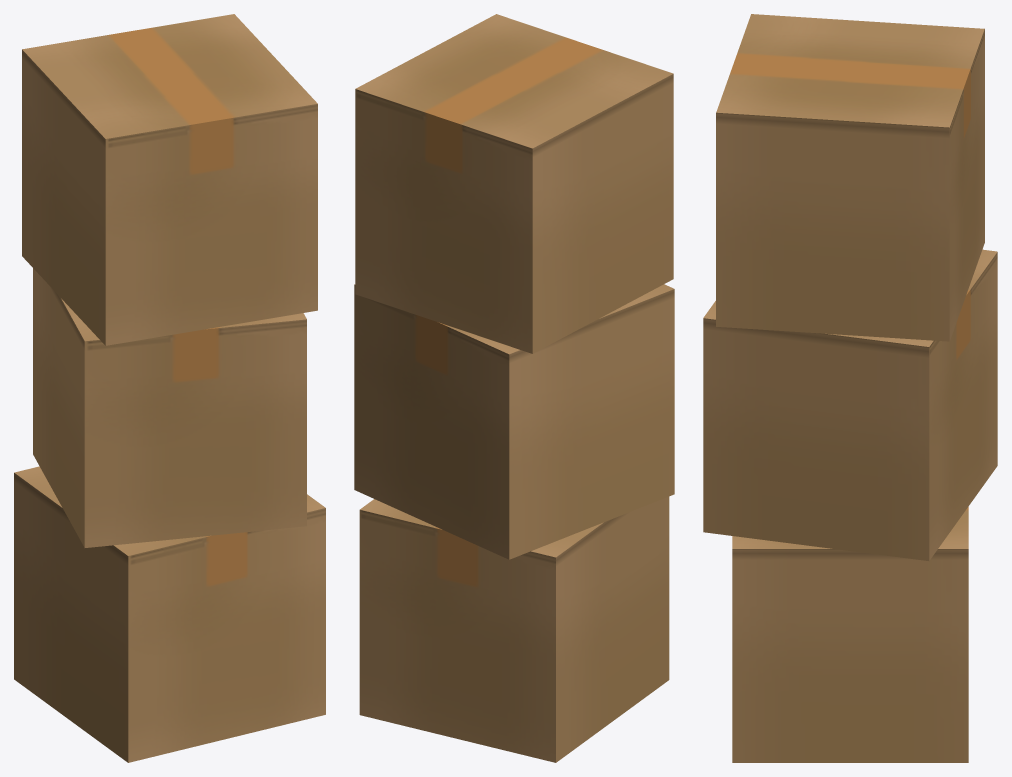
File: cardboardx3.obj
The picture shows the model from 3 angles, left to right: view 1: azimuth 30°, elevation 25°; view 2: azimuth 150°, elevation 25°; view 3: azimuth 270°, elevation 25°; orthographic projection. The views are drawn at different scales.
Parts seen in each view (by area): view 1: pCube3, pCube2, pCube1; view 2: pCube3, pCube1, pCube2; view 3: pCube3, pCube1, pCube2.
Boxes of the visible parts, x1,y1,x2,y2 form: pCube3: (22, 14, 317, 345); pCube2: (14, 466, 325, 762); pCube1: (33, 268, 306, 547); pCube3: (355, 14, 673, 353); pCube1: (354, 284, 674, 559); pCube2: (359, 496, 669, 762); pCube3: (716, 14, 984, 341); pCube1: (703, 249, 997, 560); pCube2: (732, 507, 968, 762).
Bounding box in the file's own units: 1.25 × 3 × 1.25.
1 material, 1 textured.
